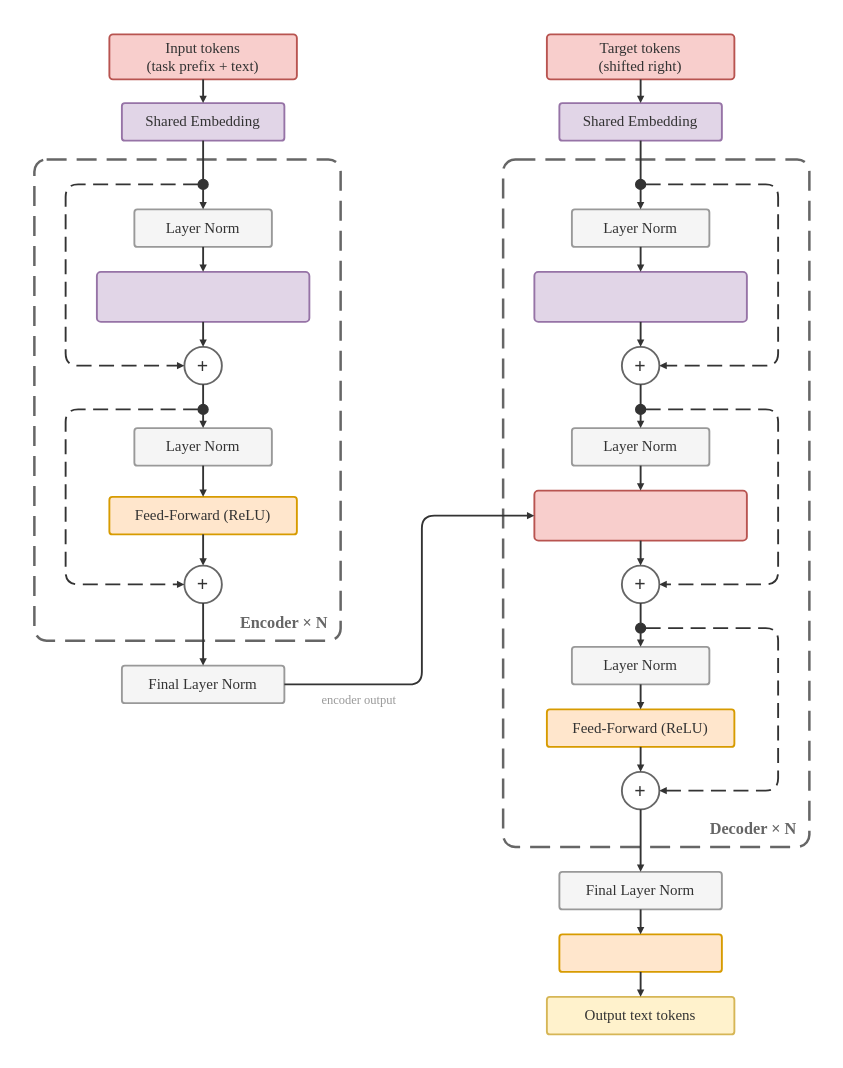
Some shapes in this 843 by 1068 pixel diagram are drawn without their labels. The centre of each missing label's shape, as x and y in pixels:
"Cross-Attention (K, V from encoder)" goes at pixel 640 515.
"Linear + Softmax" goes at pixel 640 952.
"Masked Self-Attention + relative position bias" goes at pixel 640 296.
"Self-Attention + relative position bias" goes at pixel 202 296.
